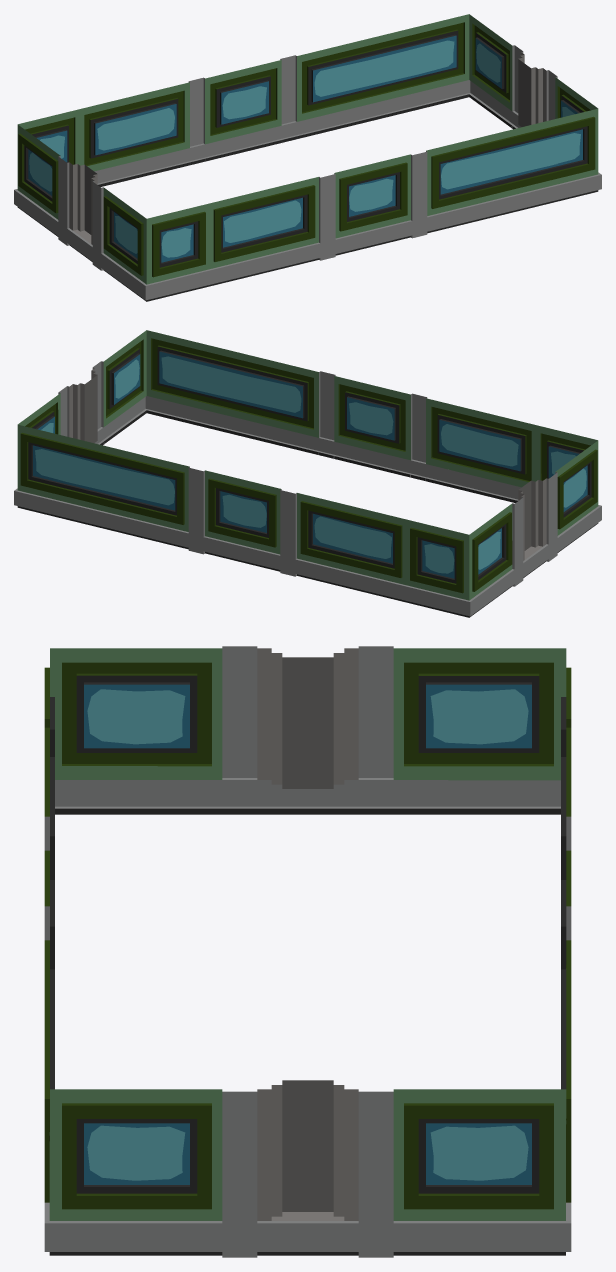
Rendered from Building_A_02.FBX.
3 renders of one model, top to bottom at view 1: azimuth 30°, elevation 25°; view 2: azimuth 150°, elevation 25°; view 3: azimuth 270°, elevation 25°, orthographic. The views are drawn at different scales.
Parts seen in each view (by area): view 1: Building_A_02; view 2: Building_A_02; view 3: Building_A_02.
Part boxes in pixels (left/top/right/bottom): Building_A_02: left=14, top=14, right=601, bottom=301; Building_A_02: left=14, top=330, right=601, bottom=617; Building_A_02: left=44, top=646, right=571, bottom=1257.
Size of the model in its own units: 10 by 1.74 by 5.
